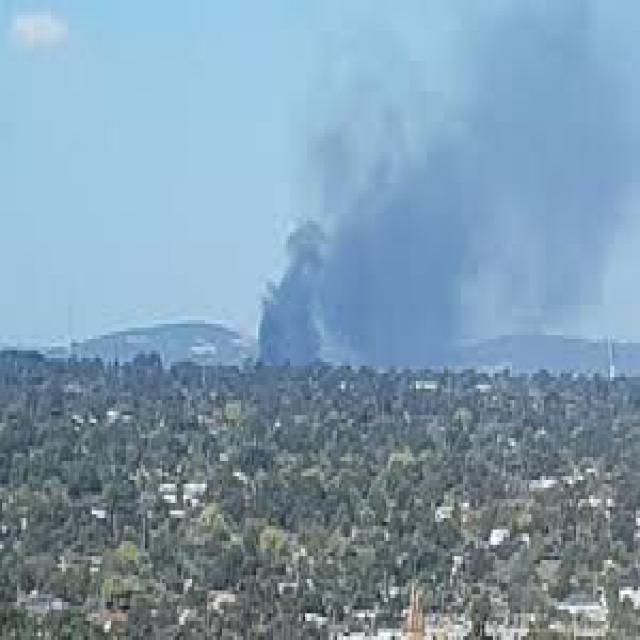Smoke: (249, 0, 609, 362)
